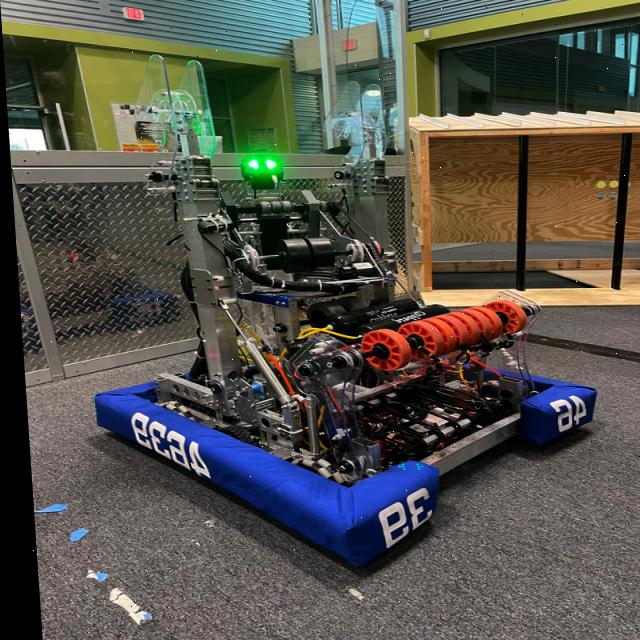robot: (66, 54, 604, 566)
